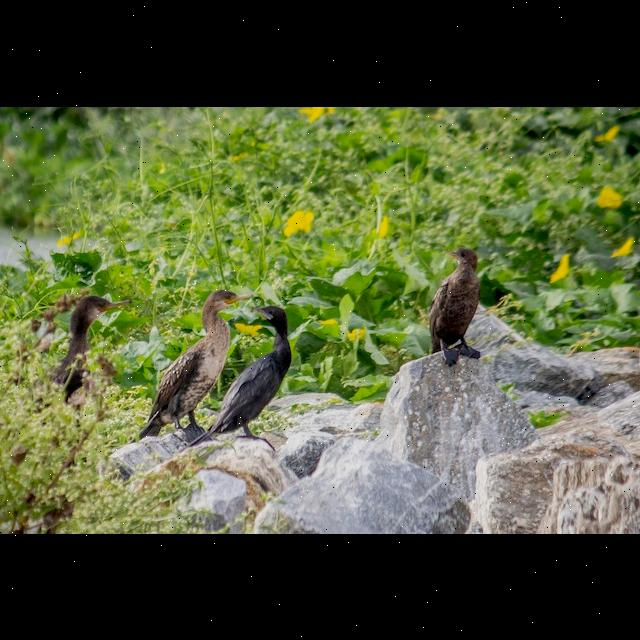cormorant: (139, 284, 253, 441), (35, 292, 133, 398), (227, 296, 299, 434), (428, 242, 488, 366)
